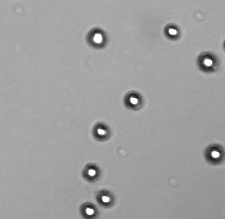Living Cell: (87, 26, 108, 48), (198, 51, 218, 71), (124, 90, 143, 109), (96, 188, 116, 206), (163, 22, 182, 40), (206, 143, 223, 163), (92, 121, 110, 139), (82, 162, 100, 180), (80, 201, 98, 217)
